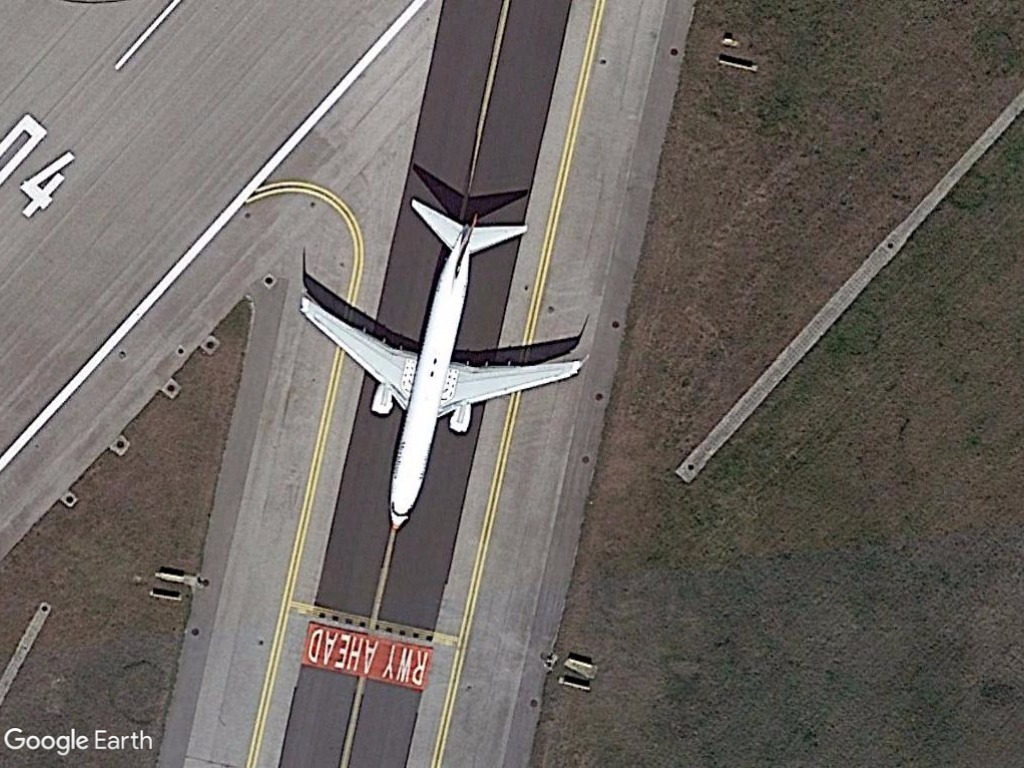airliner: (287, 184, 594, 540)
